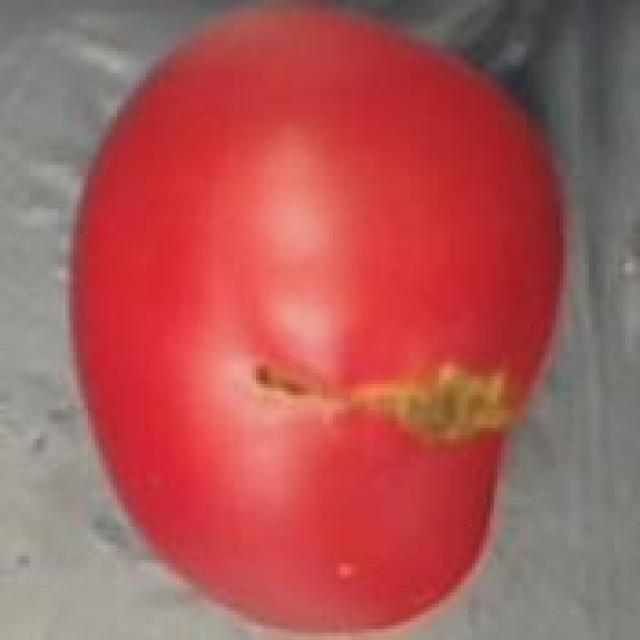overripe tomato: (62, 3, 577, 640)
